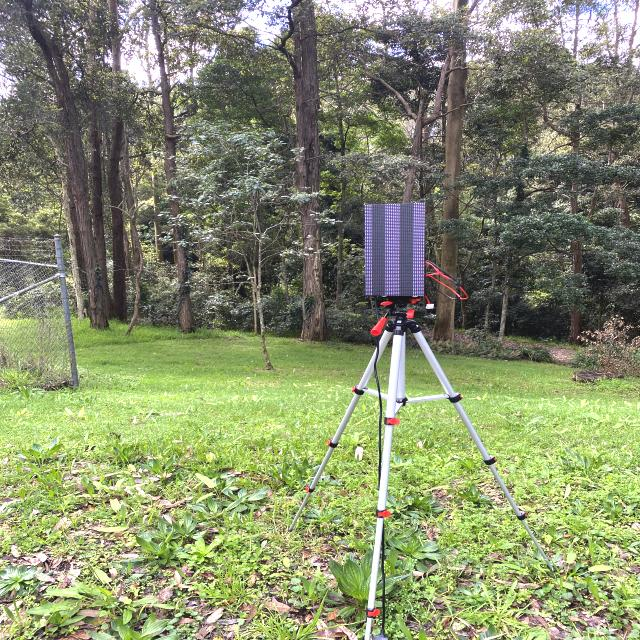matrix: (362, 200, 428, 298)
